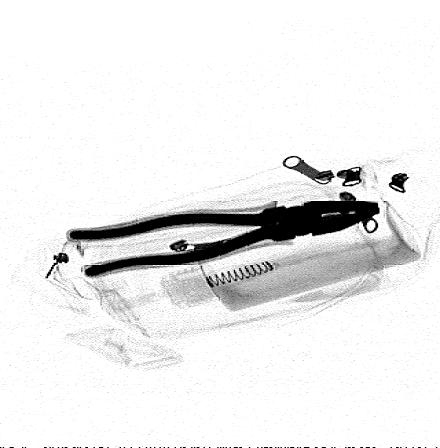Pliers: (66, 201, 382, 277)
